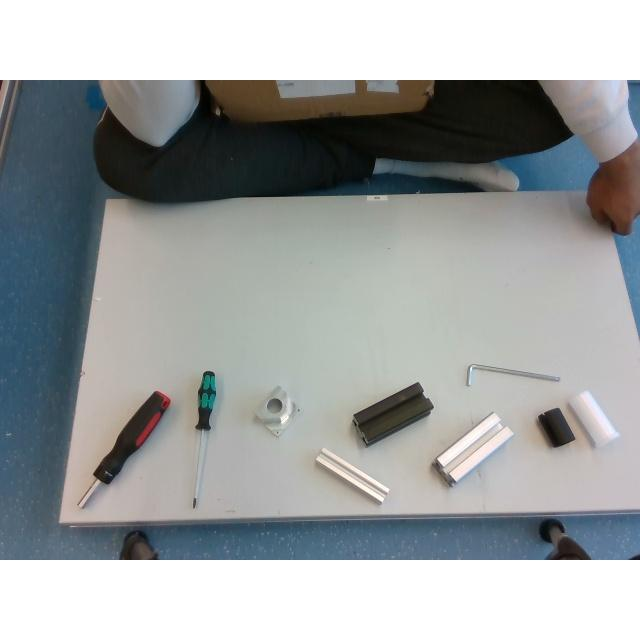F20_20_G: (315, 448, 389, 504)
S40_40_B: (353, 382, 433, 446)
S40_40_G: (434, 412, 514, 484)
Screwdriver: (192, 371, 220, 509)
Spacer: (569, 389, 619, 446)
